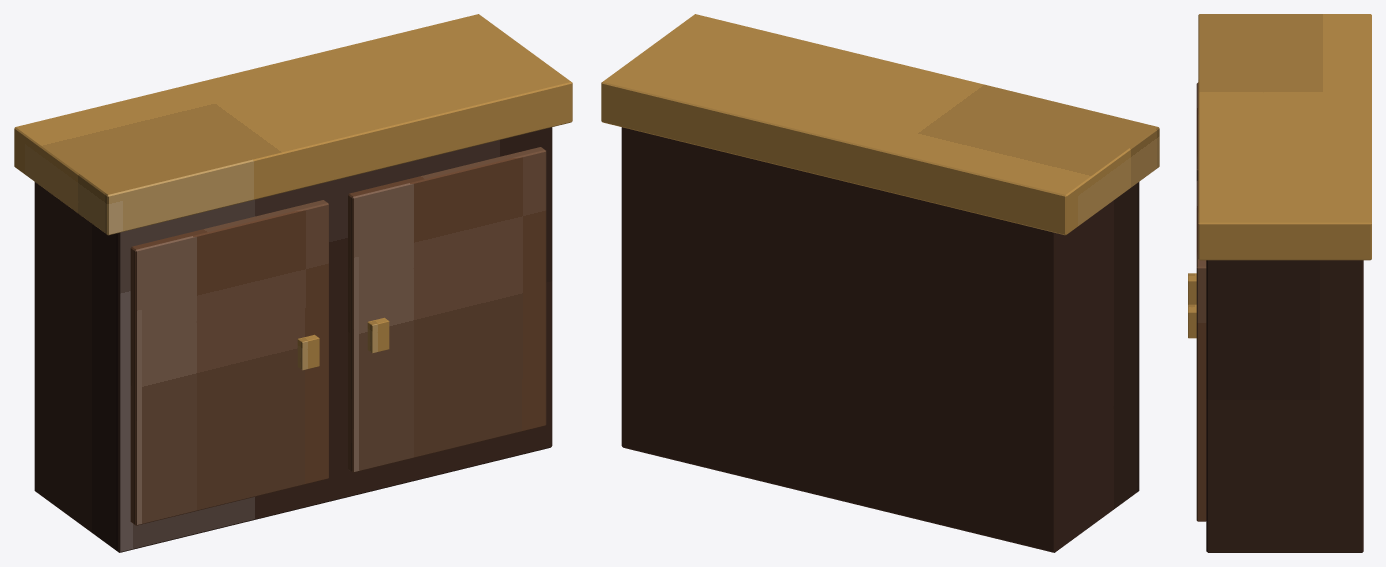
Rendered from luxury_kitchen_wall_cabinet.glb.
3 renders of one model, left to right at view 1: azimuth 30°, elevation 25°; view 2: azimuth 150°, elevation 25°; view 3: azimuth 270°, elevation 25°, orthographic. The views are drawn at different scales.
Parts seen in each view (by area): view 1: CabinetCrown, WallCabinetDoor_1, WallCabinetDoor_2, WallCabinetBody, WallCabinetKnob_1, WallCabinetKnob_2; view 2: WallCabinetBody, CabinetCrown; view 3: WallCabinetBody, CabinetCrown, WallCabinetDoor_2, WallCabinetKnob_2, WallCabinetDoor_1, WallCabinetKnob_1.
Part boxes in pixels (x1,y1,x2,y2): CabinetCrown: (14,14,572,235); WallCabinetDoor_1: (130,200,328,525); WallCabinetDoor_2: (348,147,546,472); WallCabinetBody: (34,127,552,552); WallCabinetKnob_1: (297,334,319,370); WallCabinetKnob_2: (367,317,389,353); WallCabinetBody: (621,127,1139,552); CabinetCrown: (601,14,1159,235); WallCabinetBody: (1206,260,1363,552); CabinetCrown: (1198,14,1371,260); WallCabinetDoor_2: (1196,180,1206,521); WallCabinetKnob_2: (1188,304,1196,338); WallCabinetDoor_1: (1196,82,1198,180); WallCabinetKnob_1: (1188,273,1196,304).
Bounding box in the file's own units: 1.2 × 0.9 × 0.4445.
1 material, 1 textured.
